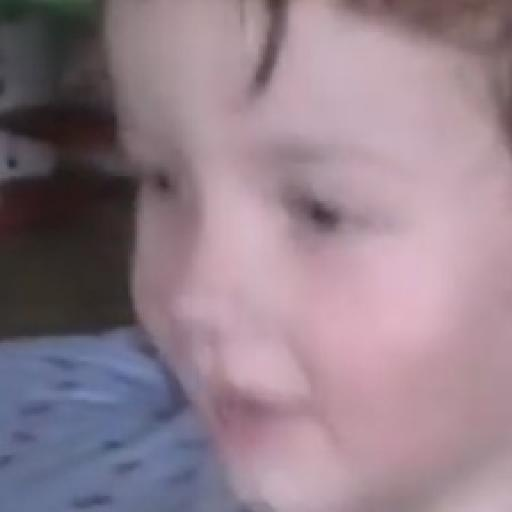Autism: (107, 10, 512, 494)
